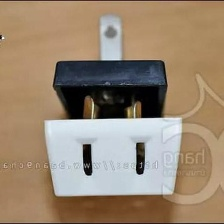three_eye_plug: (40, 88, 189, 202)
